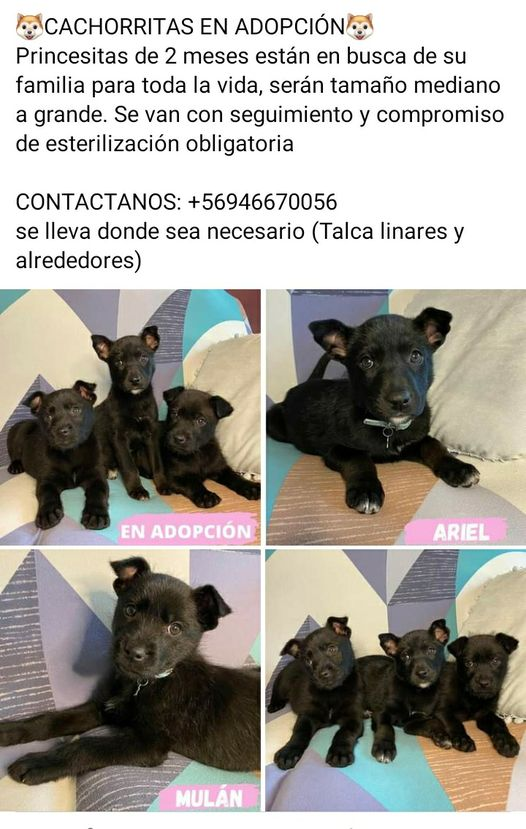dog: (9, 551, 257, 789), (272, 308, 484, 522), (10, 357, 110, 534), (84, 332, 172, 506), (276, 614, 363, 785), (155, 377, 260, 518), (364, 622, 455, 781), (444, 623, 521, 763)
